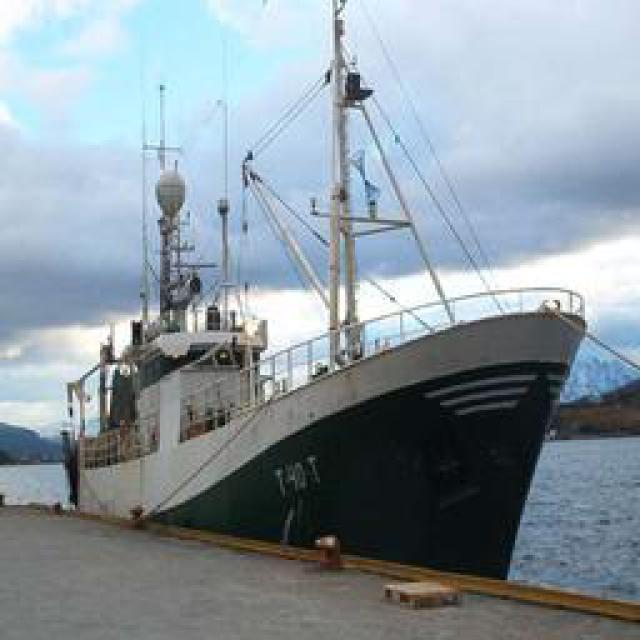Ship: (49, 19, 589, 574)
